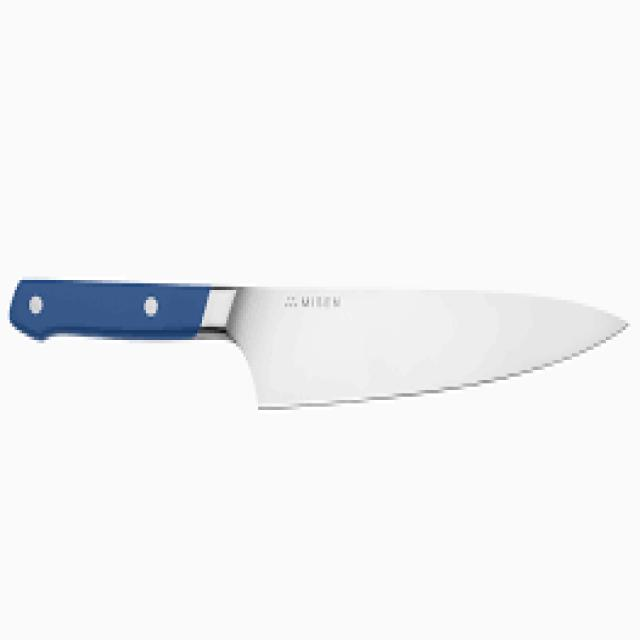Knife: (7, 273, 628, 410)
